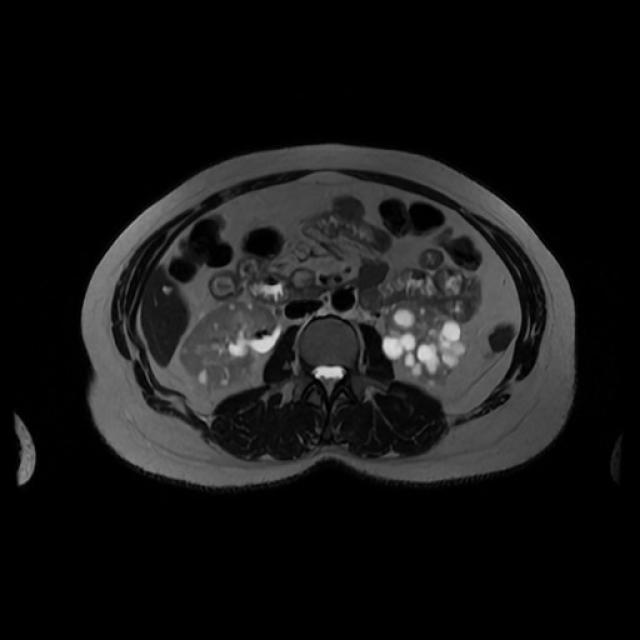sag: (182, 303, 275, 384)
sol: (383, 302, 464, 383)
